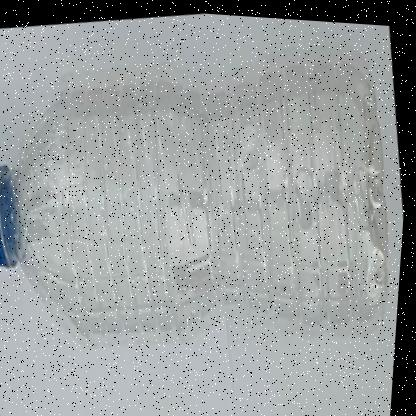bottle cap: (1, 69, 126, 371)
